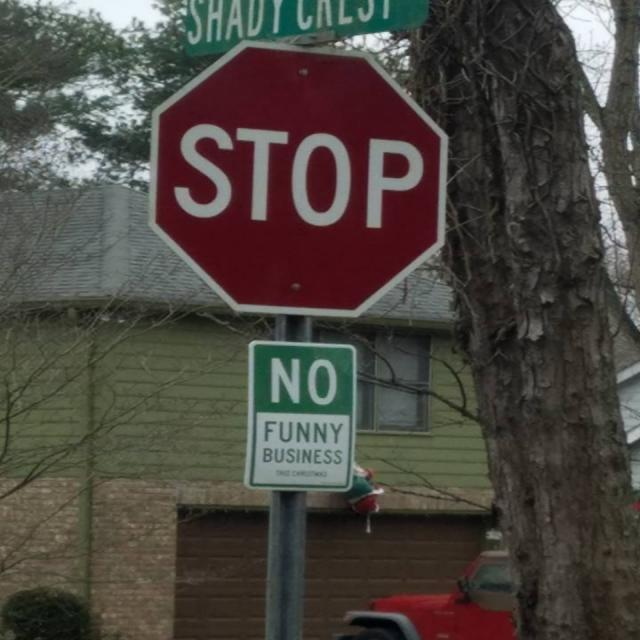stop: (146, 38, 449, 319)
